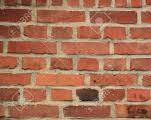brick: (36, 7, 86, 24), (6, 41, 57, 55), (90, 10, 138, 24), (61, 42, 109, 56), (9, 105, 58, 118), (37, 72, 84, 85), (91, 73, 138, 85), (1, 8, 34, 24), (64, 106, 111, 117), (112, 42, 151, 55), (1, 72, 33, 85), (116, 107, 151, 117), (24, 24, 47, 38), (22, 56, 46, 69), (51, 25, 73, 39), (77, 57, 99, 71), (104, 57, 126, 70), (131, 56, 151, 70), (78, 26, 100, 38), (51, 56, 73, 68), (1, 24, 21, 37), (127, 89, 150, 100), (104, 27, 125, 39), (26, 89, 46, 101), (52, 89, 72, 101), (130, 27, 151, 38), (1, 90, 20, 101), (79, 90, 97, 101), (1, 56, 18, 67), (105, 90, 123, 100)
